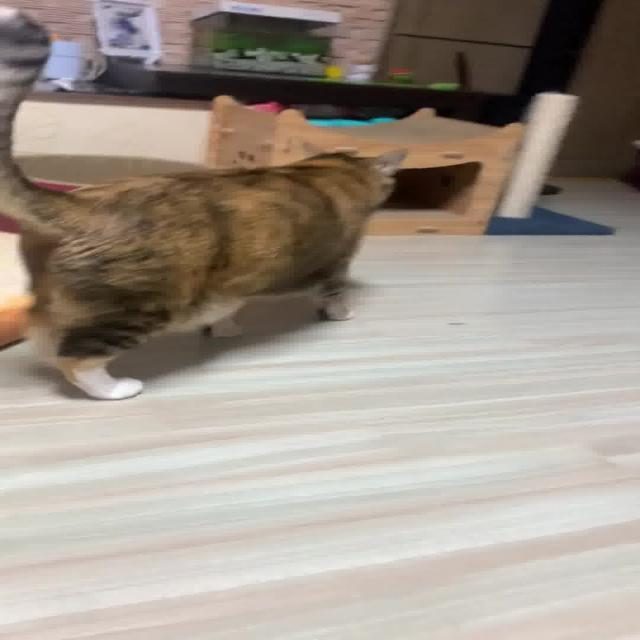cat: (0, 11, 470, 414)
